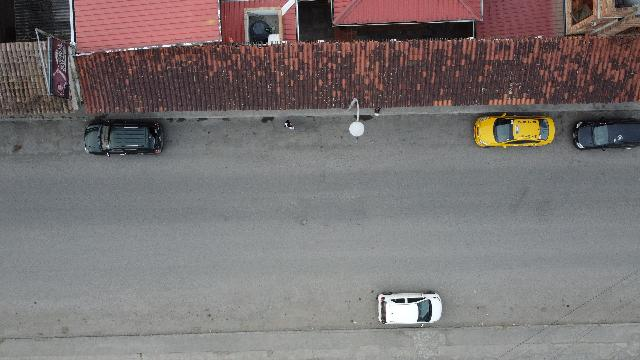Vehiculo: (84, 121, 162, 156), (474, 114, 554, 148), (572, 118, 640, 150), (378, 292, 442, 324)
